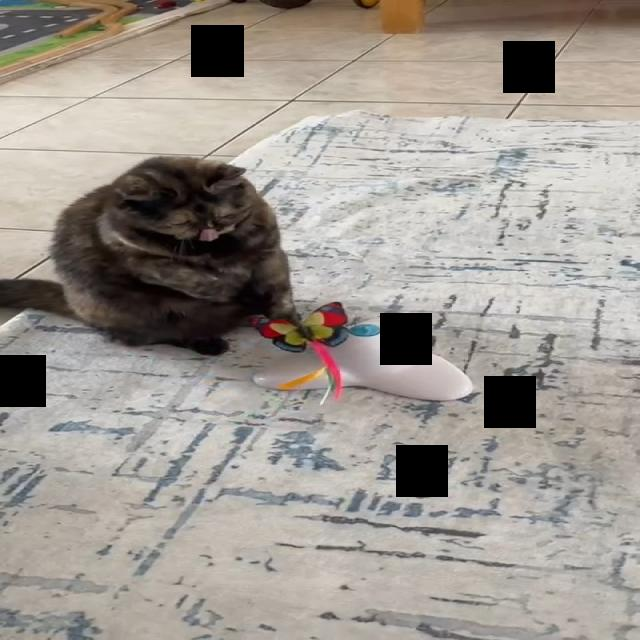authorized: (0, 154, 303, 356)
